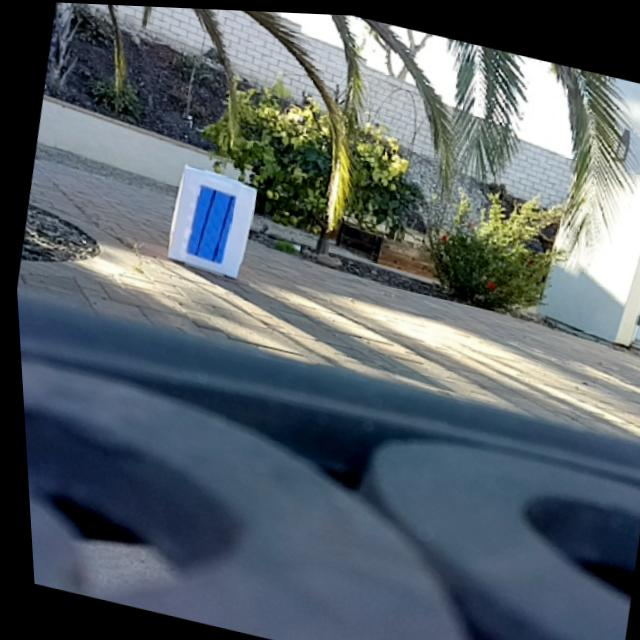led: (180, 174, 234, 264)
